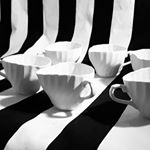cups: (34, 60, 98, 114), (107, 64, 150, 122), (1, 53, 53, 97)
